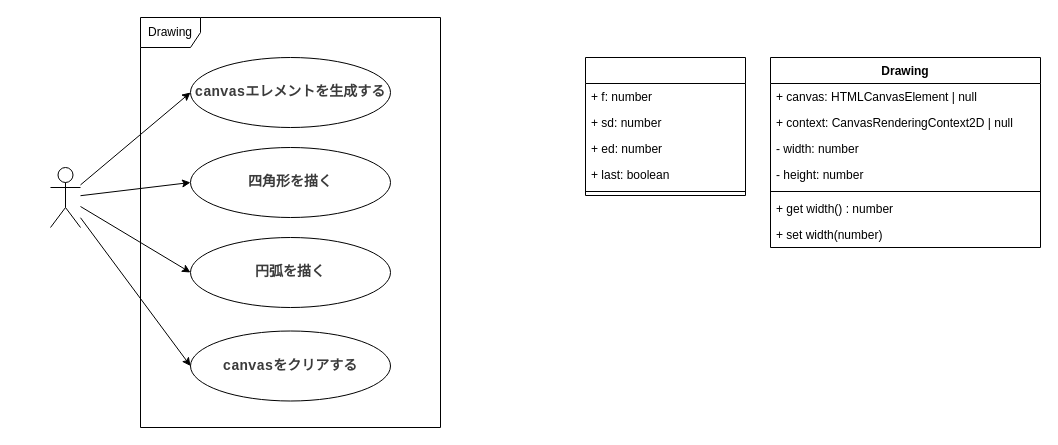
This 1058x445 diagram has some shape labels left out. The box of each missing label's shape, as (x1, y1, x2, y2) in pixels:
ArcParams: (584, 56, 746, 196)
アプリケーション: (50, 166, 80, 228)
